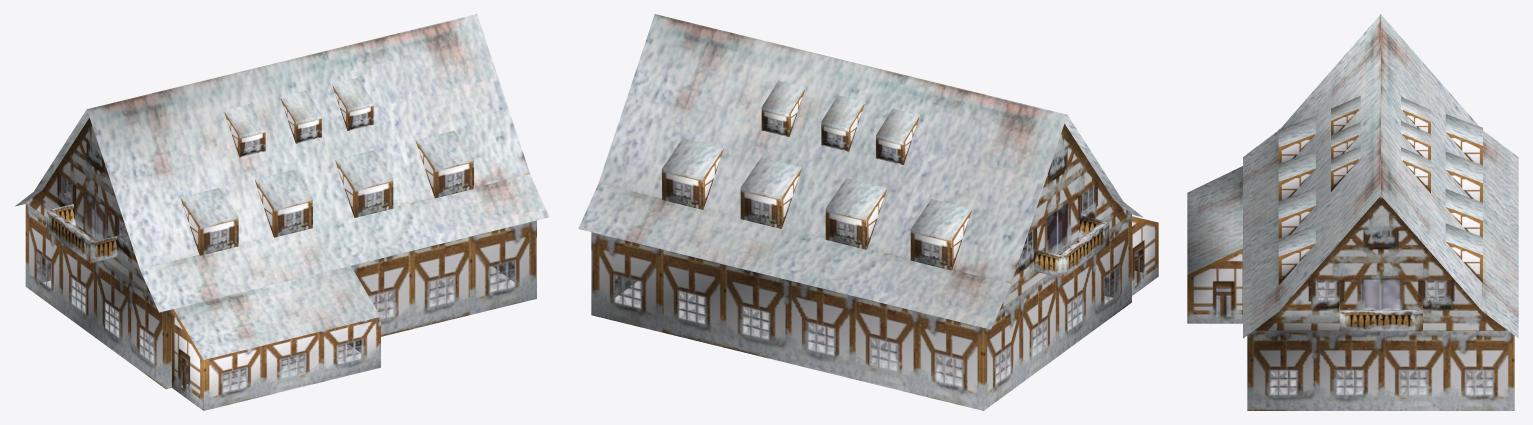
File: Civilian - Civilian Building - German Cotage 01 - Snow - CBGCtage01_s.glb
The picture shows the model from 3 angles, left to right: view 1: azimuth 30°, elevation 25°; view 2: azimuth 150°, elevation 25°; view 3: azimuth 270°, elevation 25°; orthographic projection. The views are drawn at different scales.
Visible parts, largest first — view 1: CBGCTAGE01_S; view 2: CBGCTAGE01_S; view 3: CBGCTAGE01_S.
Boxes of the visible parts, x1,y1,x2,y2 form: CBGCTAGE01_S: (15, 14, 549, 410); CBGCTAGE01_S: (578, 14, 1158, 410); CBGCTAGE01_S: (1187, 14, 1518, 410).
Size of the model in its own units: 87.1 by 45.18 by 61.65.
1 material, 1 textured.
